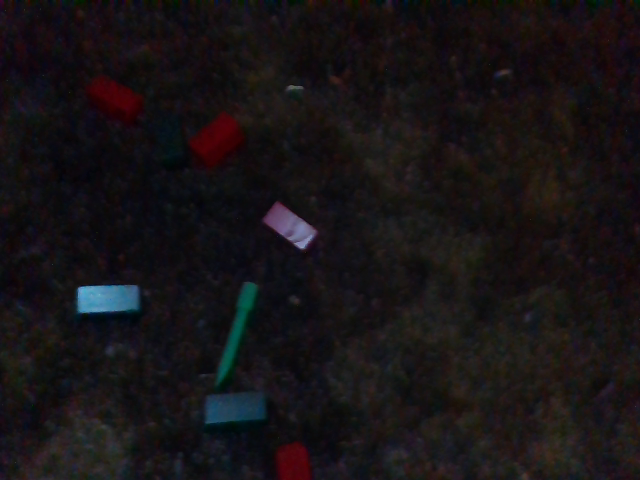Probe: (216, 275, 259, 382)
